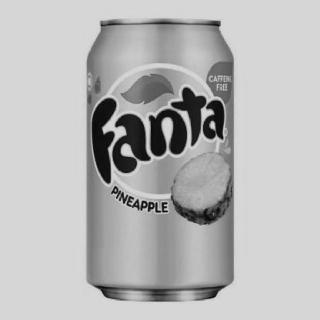alumunium_can: (84, 12, 234, 304)
